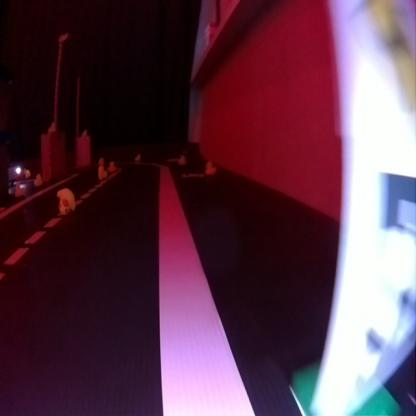Duckie: (56, 188, 75, 212), (13, 184, 22, 196), (205, 162, 215, 172), (34, 174, 42, 186), (98, 166, 106, 176), (48, 121, 56, 131), (108, 161, 115, 171), (178, 155, 184, 163), (98, 157, 104, 165), (134, 152, 140, 160), (81, 128, 87, 136)
QR code: (182, 172, 204, 180)
